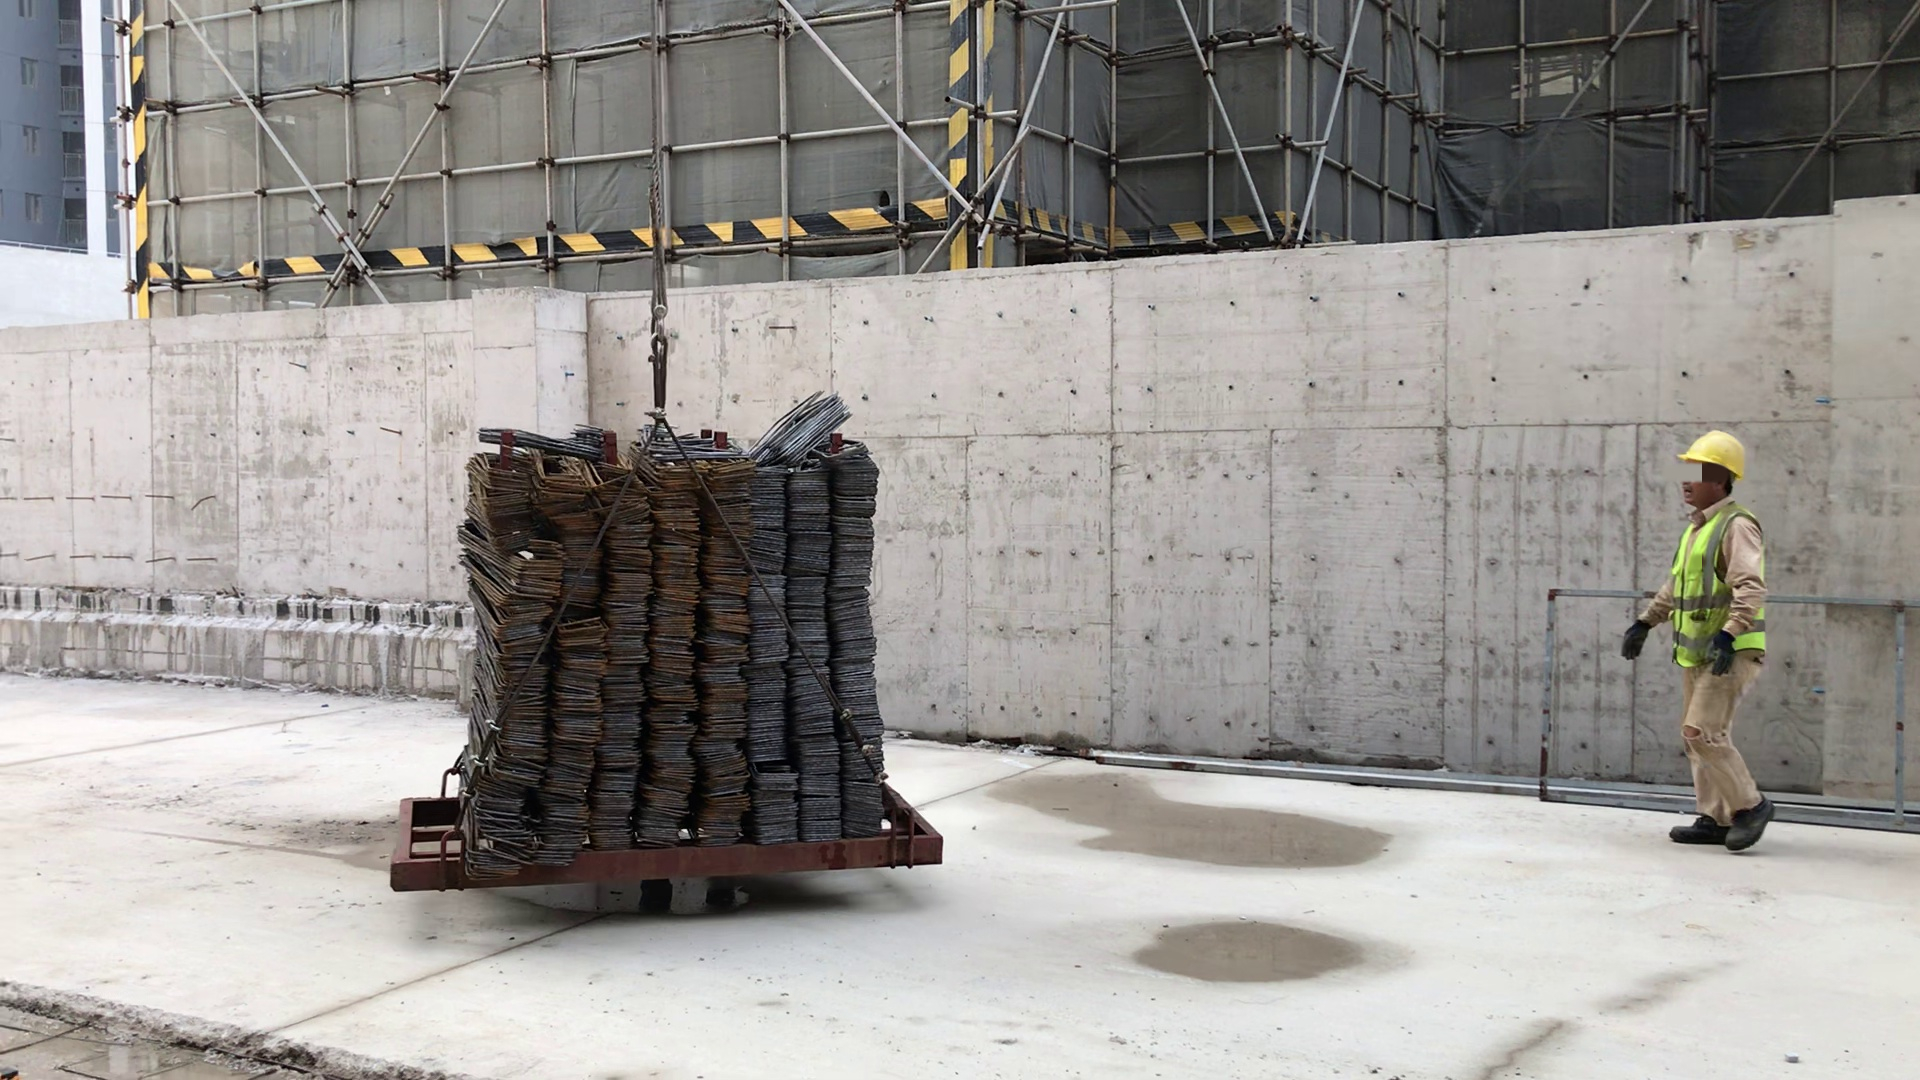helmet: (1666, 421, 1766, 479)
person: (1619, 403, 1792, 861)
vest: (1656, 511, 1783, 694)
